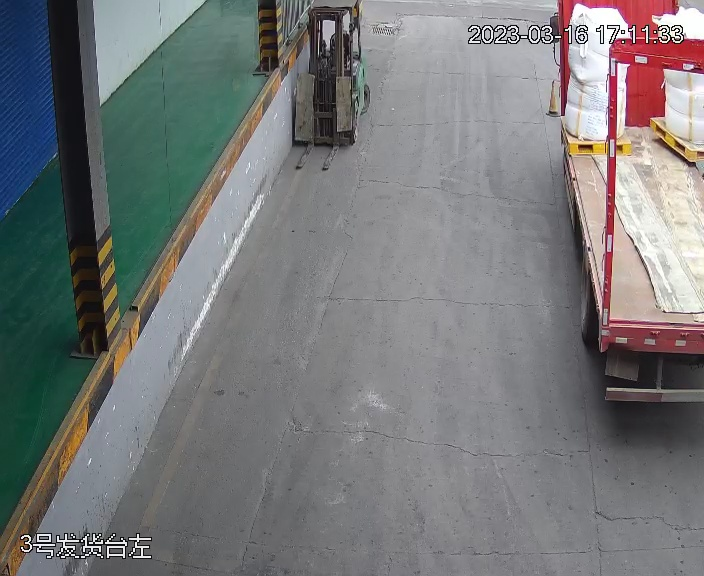truck: (543, 1, 704, 410)
